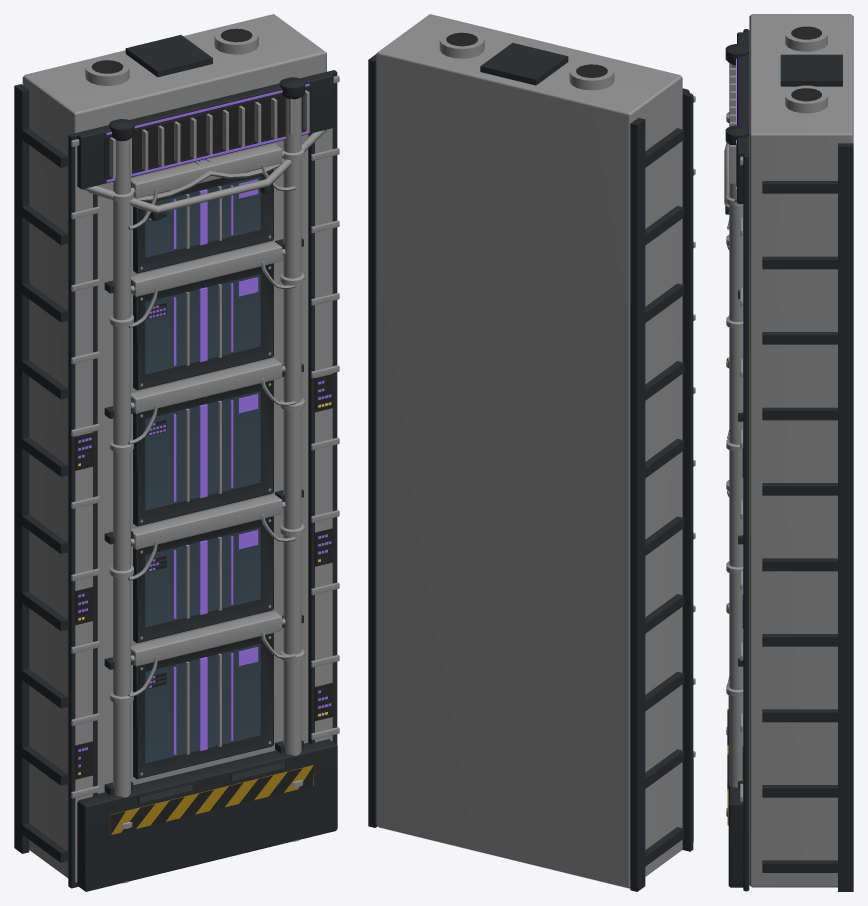
Rendered from Core_Machinery_16m.fbx.
3 renders of one model, left to right at view 1: azimuth 30°, elevation 25°; view 2: azimuth 150°, elevation 25°; view 3: azimuth 270°, elevation 25°, orthographic. The views are drawn at different scales.
Parts seen in each view (by area): view 1: Core_Machinery_16m_LOD0; view 2: Core_Machinery_16m_LOD0; view 3: Core_Machinery_16m_LOD0.
Boxes of the visible parts, x1,y1,x2,y2 form: Core_Machinery_16m_LOD0: (14, 14, 339, 891); Core_Machinery_16m_LOD0: (368, 14, 695, 891); Core_Machinery_16m_LOD0: (724, 14, 853, 891).
Size of what is drawn, in the model's own units: 5.8 by 16.2 by 2.48.
